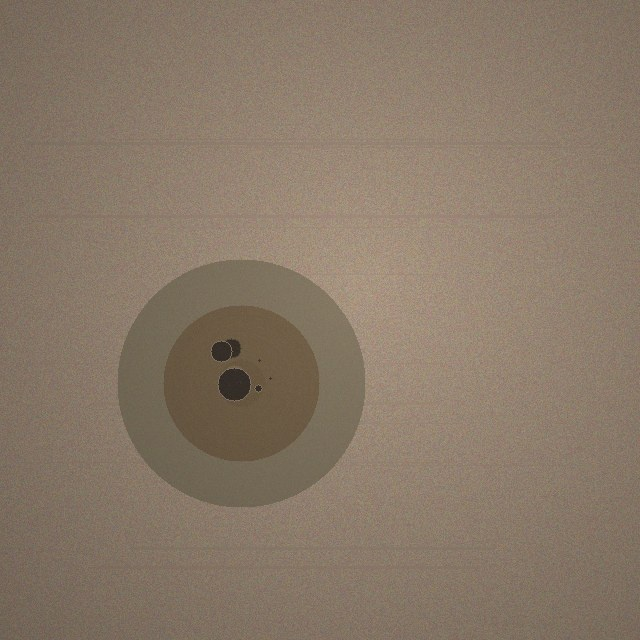shrinkage: (117, 259, 365, 507)
